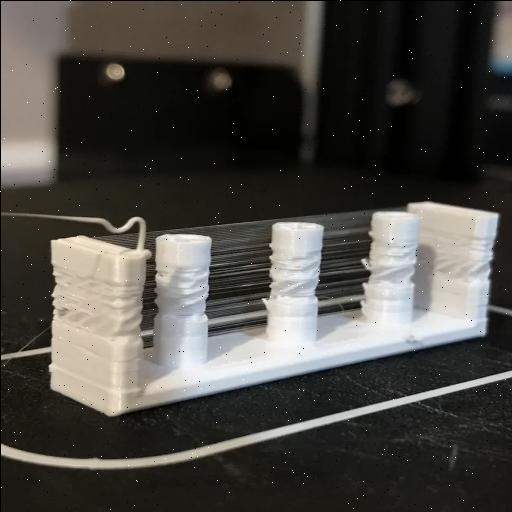stringing: (82, 204, 410, 347)
